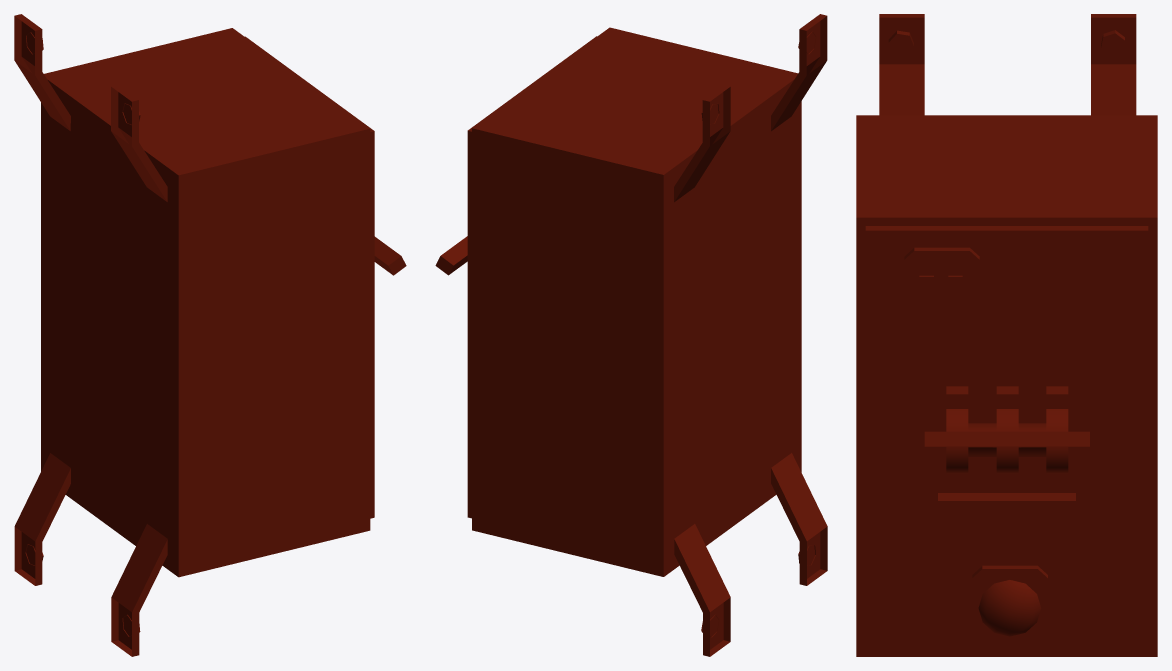
Rendered from automation cabinet4.FBX.
The picture shows the model from 3 angles, left to right: view 1: azimuth 30°, elevation 25°; view 2: azimuth 150°, elevation 25°; view 3: azimuth 270°, elevation 25°; orthographic projection. The views are drawn at different scales.
Visible parts, largest first — view 1: automation cabinet4; view 2: automation cabinet4; view 3: automation cabinet4.
Boxes of the visible parts, x1,y1,x2,y2 form: automation cabinet4: (14, 14, 406, 656); automation cabinet4: (435, 14, 827, 656); automation cabinet4: (856, 14, 1157, 656).
Bounding box in the file's own units: 37.04 × 66.48 × 29.89.
